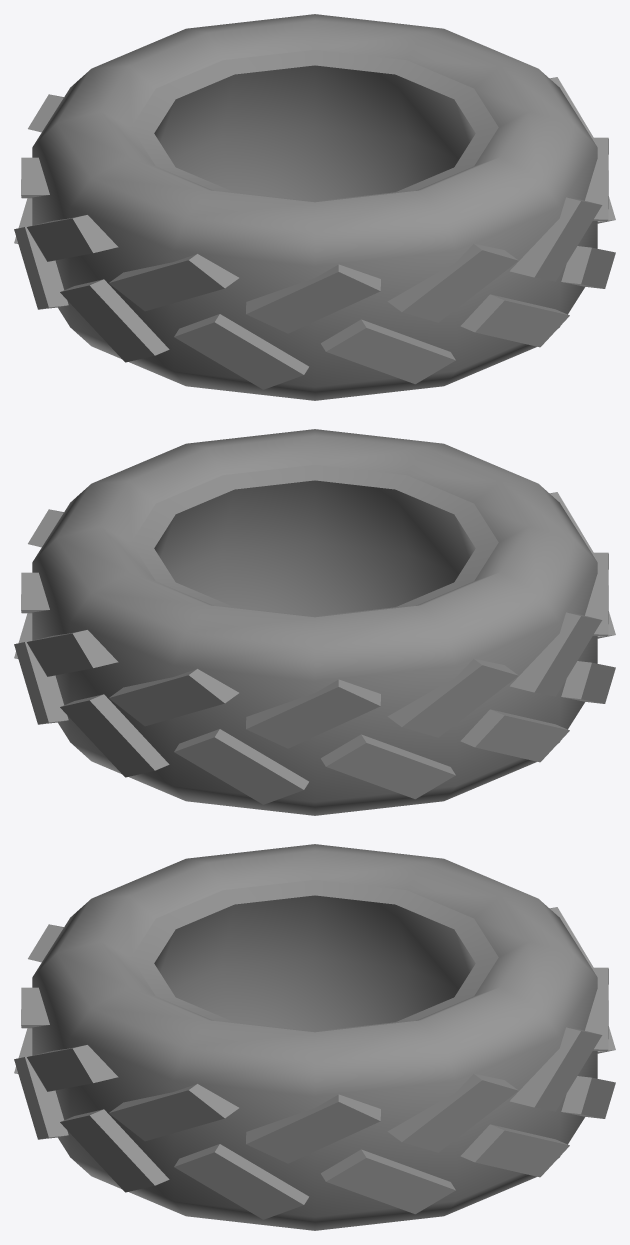
The model's file is sm_copertone_singolo.fbx.
3 views of the same model, one above another, from view 1: azimuth 30°, elevation 25°; view 2: azimuth 150°, elevation 25°; view 3: azimuth 270°, elevation 25° (orthographic).
Visible parts, largest first — view 1: polySurface46; view 2: polySurface46; view 3: polySurface46.
Part boxes in pixels (x1,y1,x2,y2): polySurface46: [14, 14, 615, 400]; polySurface46: [14, 429, 615, 815]; polySurface46: [14, 844, 615, 1230].
Bounding box in the file's own units: 108 × 38.04 × 108.
